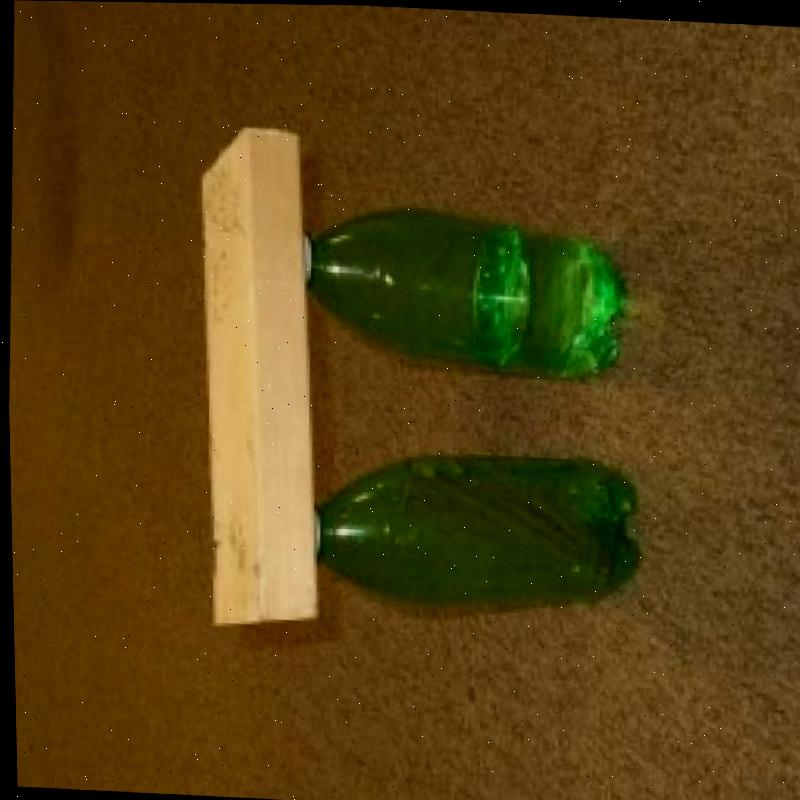botella: (304, 436, 642, 617), (295, 200, 625, 377)
